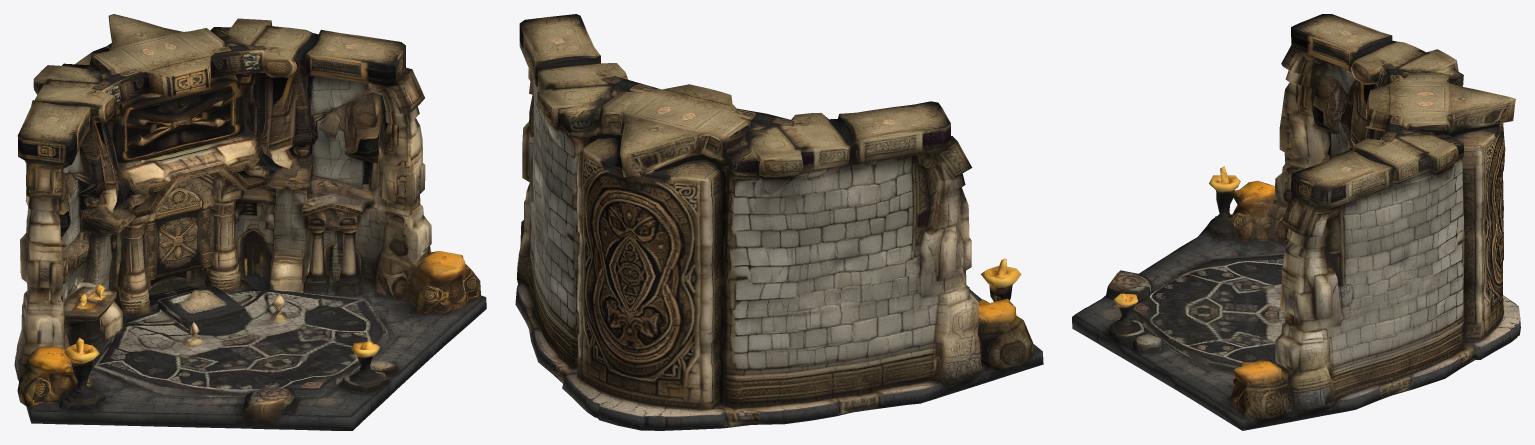
The model's file is dungeon_room.glb.
3 renders of one model, left to right at view 1: azimuth 30°, elevation 25°; view 2: azimuth 150°, elevation 25°; view 3: azimuth 270°, elevation 25°, orthographic. The views are drawn at different scales.
Visible parts, largest first — view 1: Mesh_0; view 2: Mesh_0; view 3: Mesh_0.
Boxes of the visible parts, bbox=[...] form: Mesh_0: bbox=[14, 14, 486, 430]; Mesh_0: bbox=[515, 14, 1043, 430]; Mesh_0: bbox=[1072, 14, 1520, 430].
Bounding box in the file's own units: 0.2944 × 0.15 × 0.2674.
1 material, 1 textured.
